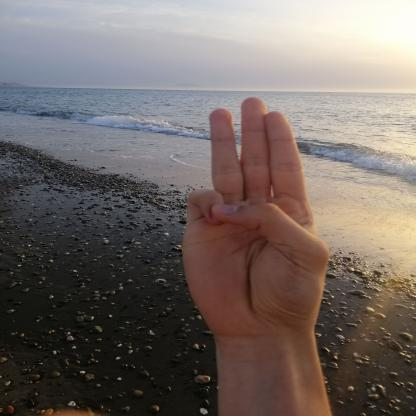THA: (158, 84, 350, 349)
